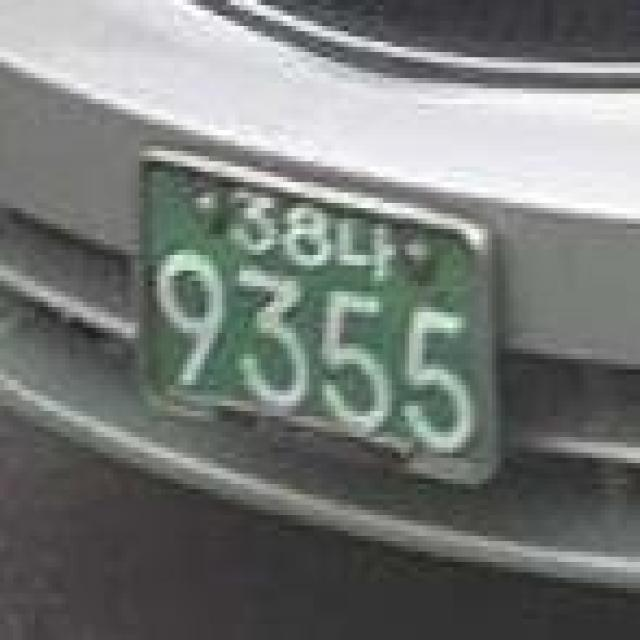illegal_plate: (116, 133, 522, 493)
